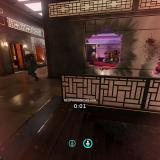Character: (23, 50, 40, 82), (115, 52, 120, 65)
Head: (24, 51, 30, 55), (118, 52, 120, 56)
